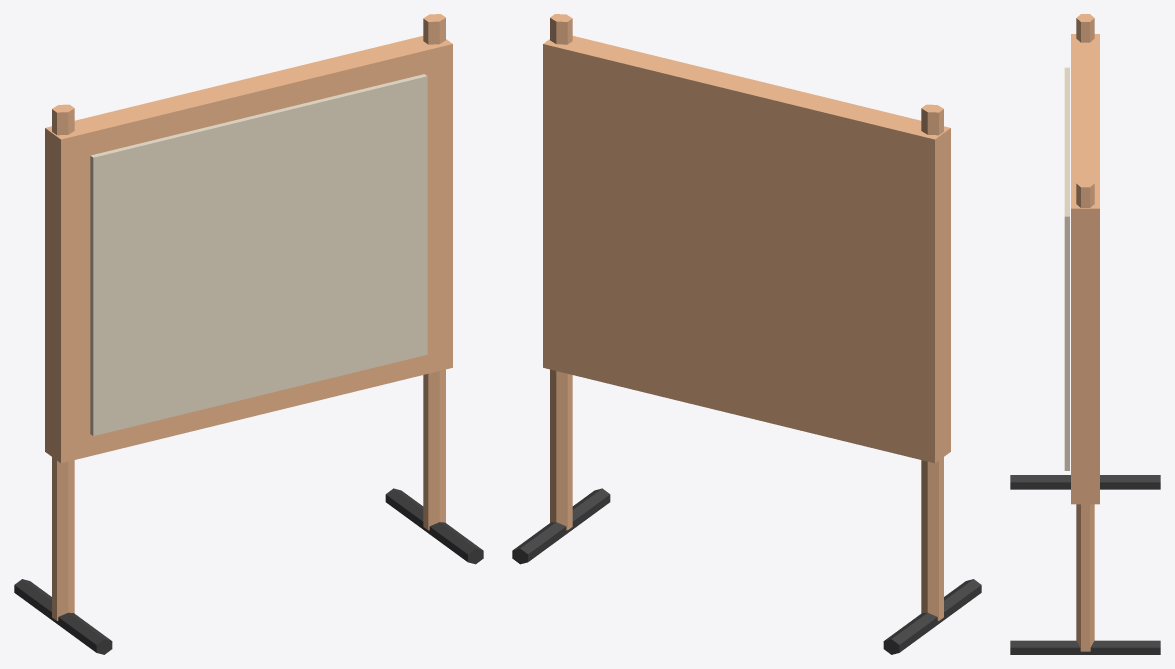
3 views of the same model, side by side, from view 1: azimuth 30°, elevation 25°; view 2: azimuth 150°, elevation 25°; view 3: azimuth 270°, elevation 25° (orthographic). The views are drawn at different scales.
Visible parts, largest first — view 1: Art surface, Frame, Support, Support.001, Foot.001, Foot; view 2: Frame, Support, Support.001, Foot.001, Foot; view 3: Frame, Support.001, Art surface, Foot.001, Foot, Support.
Part boxes in pixels (left/top/right/bottom): Art surface: left=90, top=74, right=427, bottom=435; Frame: left=45, top=36, right=452, bottom=463; Support: left=52, top=104, right=74, bottom=620; Support.001: left=423, top=14, right=445, bottom=530; Foot.001: left=385, top=488, right=483, bottom=564; Foot: left=14, top=579, right=112, bottom=654; Frame: left=543, top=36, right=950, bottom=463; Support: left=921, top=104, right=943, bottom=620; Support.001: left=550, top=14, right=572, bottom=530; Foot.001: left=512, top=488, right=610, bottom=564; Foot: left=883, top=579, right=981, bottom=654; Frame: left=1071, top=34, right=1099, bottom=504; Support.001: left=1076, top=179, right=1094, bottom=651; Art surface: left=1064, top=67, right=1069, bottom=470; Foot.001: left=1010, top=640, right=1160, bottom=654; Foot: left=1010, top=475, right=1160, bottom=489; Support: left=1076, top=14, right=1094, bottom=42.
Bounding box in the file's own units: 114 × 144 × 41.4.
